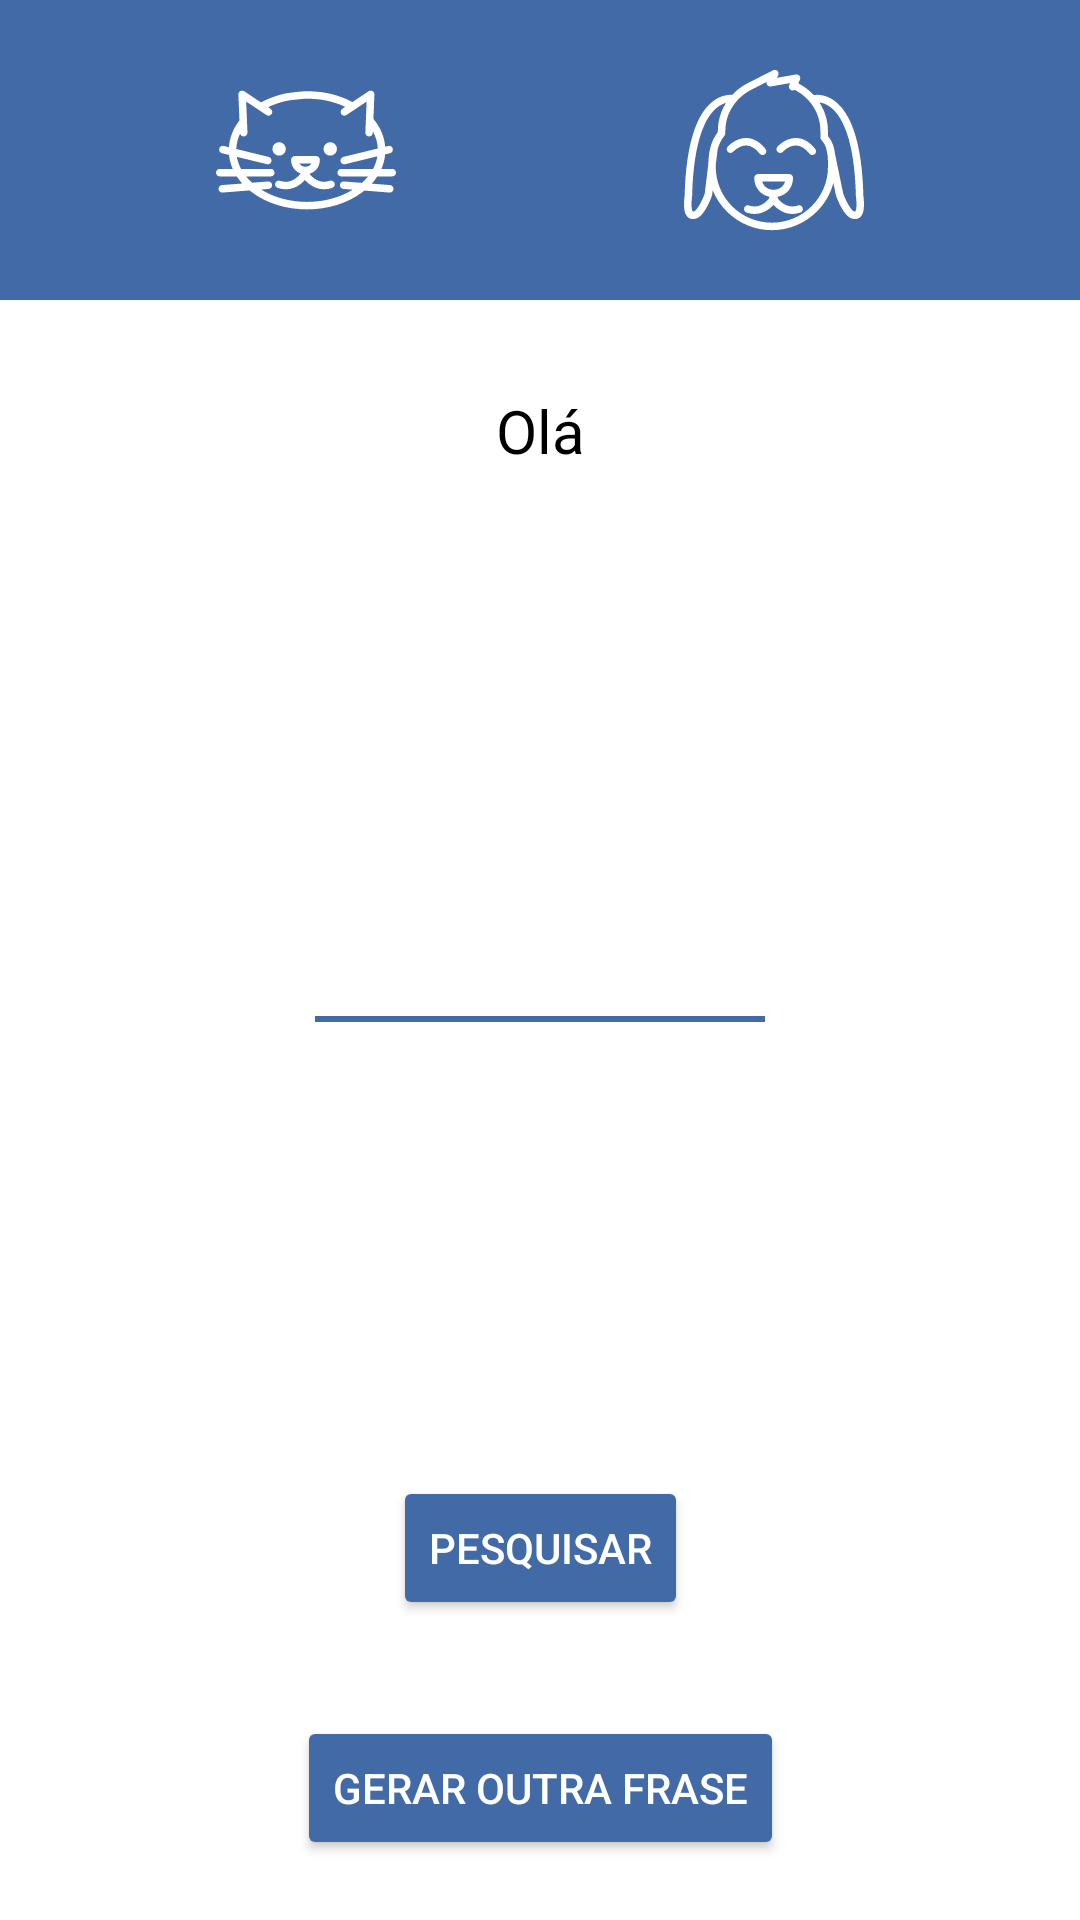

Icons on this 1080*1920 Android screen, each with the point to tap as [x,y]:
cat: [306,150]
dog: [774,150]
